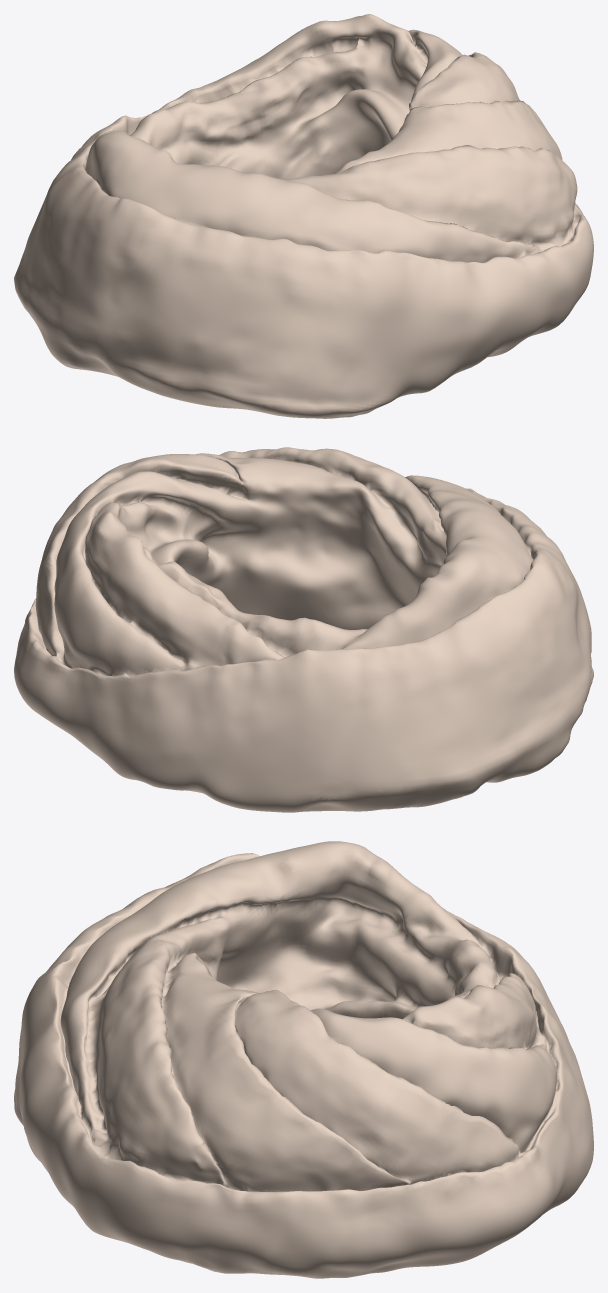
The model's file is turban.glb.
3 renders of one model, top to bottom at view 1: azimuth 30°, elevation 25°; view 2: azimuth 150°, elevation 25°; view 3: azimuth 270°, elevation 25°, orthographic. The views are drawn at different scales.
Parts seen in each view (by area): view 1: Object001-retopo 1; view 2: Object001-retopo 1; view 3: Object001-retopo 1.
Boxes of the visible parts, x1,y1,x2,y2 form: Object001-retopo 1: (14, 14, 593, 418); Object001-retopo 1: (14, 447, 593, 812); Object001-retopo 1: (14, 841, 593, 1278).
Bounding box in the file's own units: 0.3886 × 0.1717 × 0.3495.
